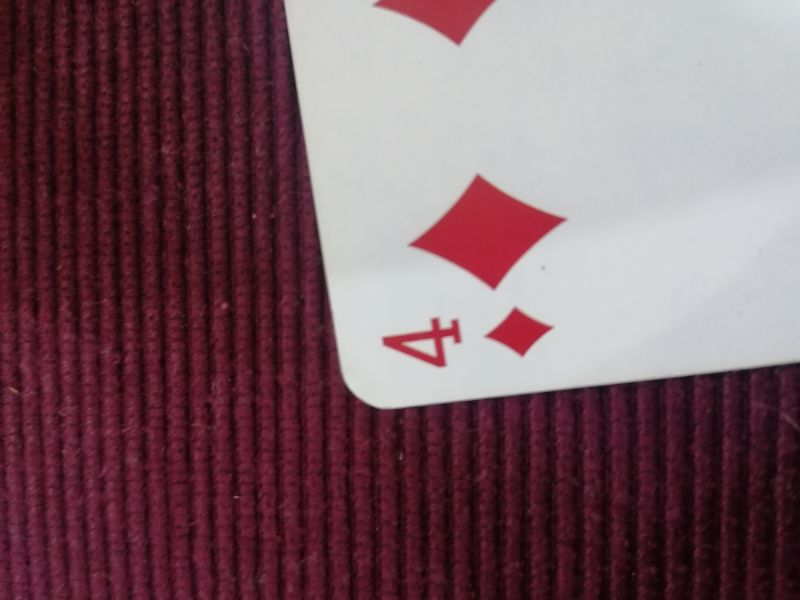4d: (381, 303, 555, 371)
